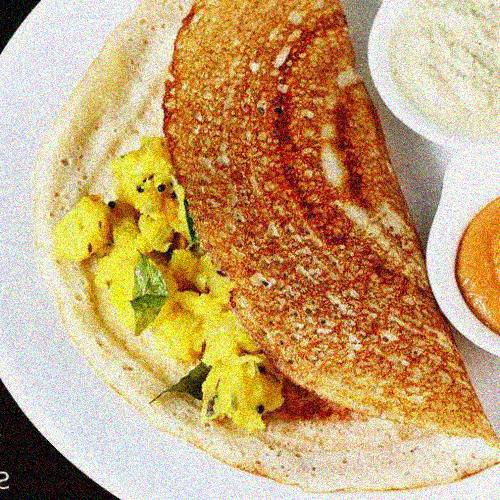dosa: (42, 3, 500, 485)
